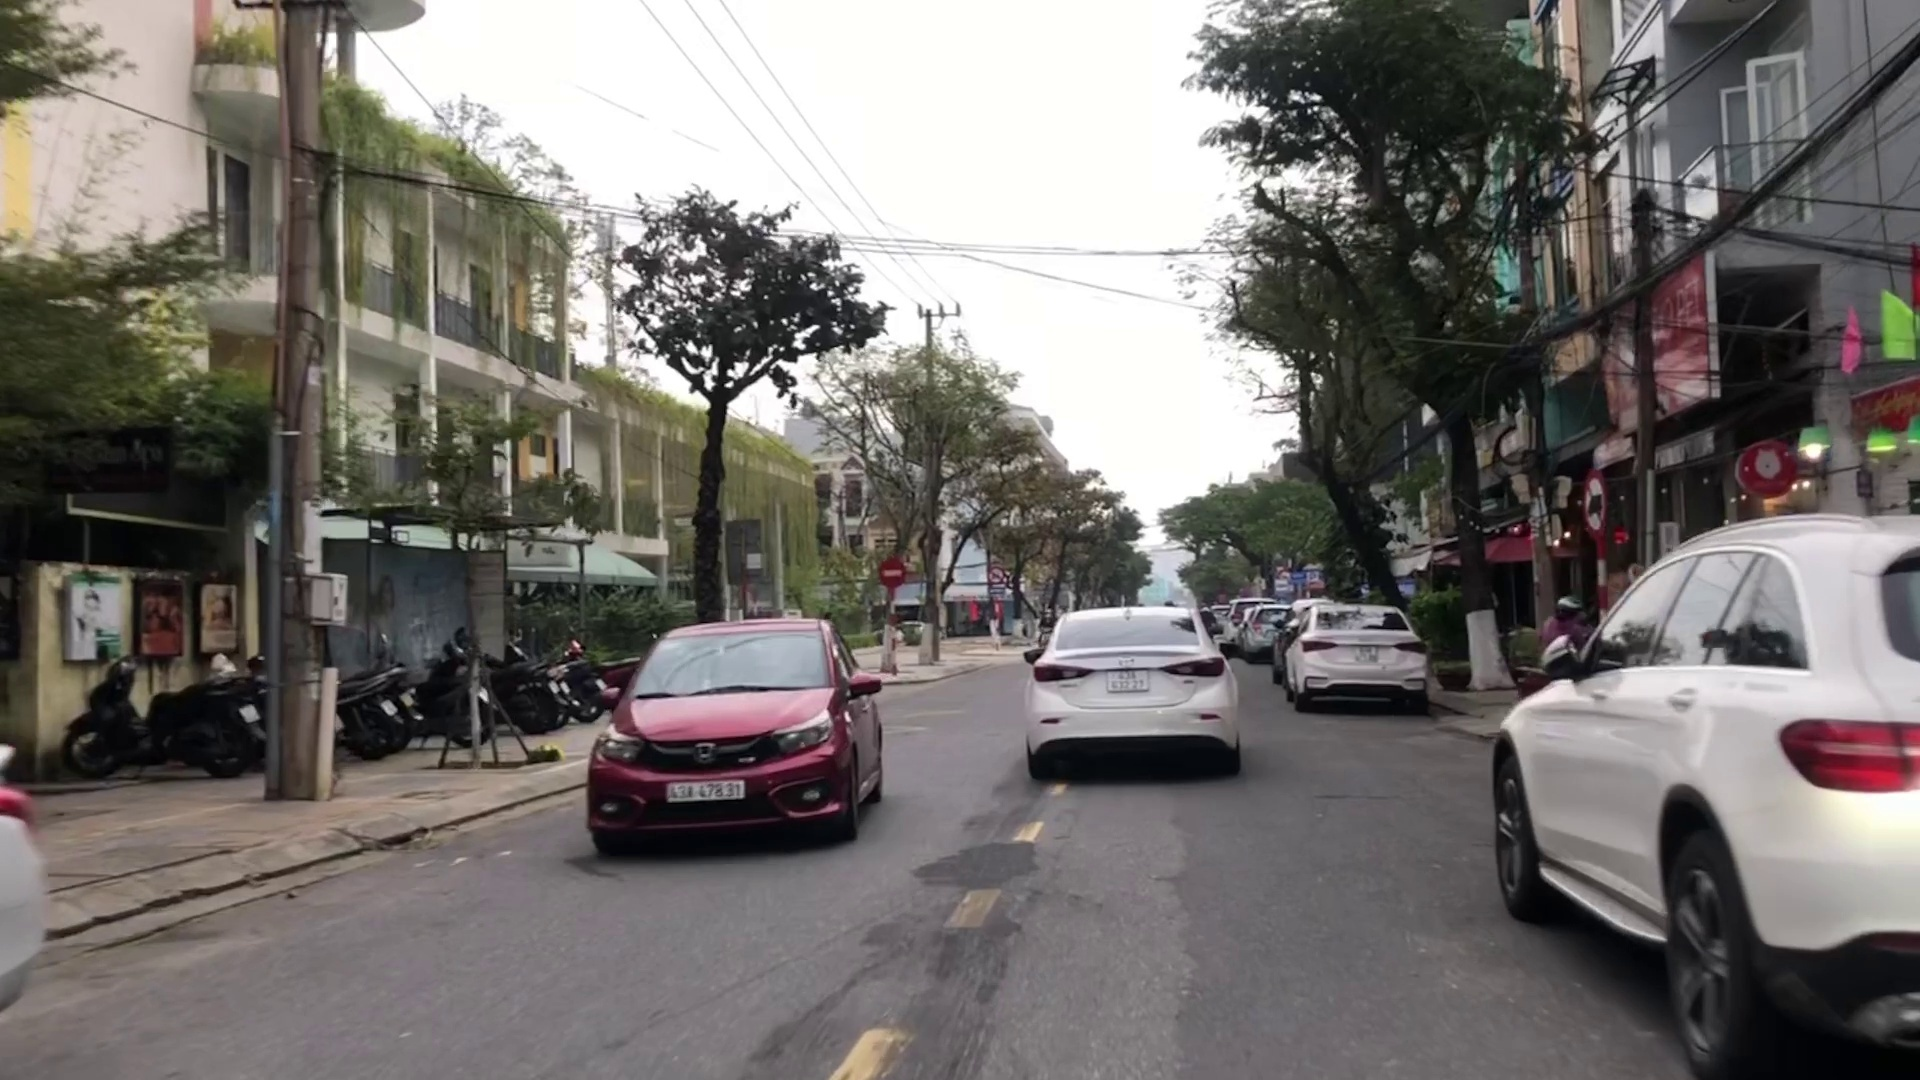Bien khac: (982, 559, 1006, 588)
Cam di nguoc chieu: (876, 559, 906, 587)
